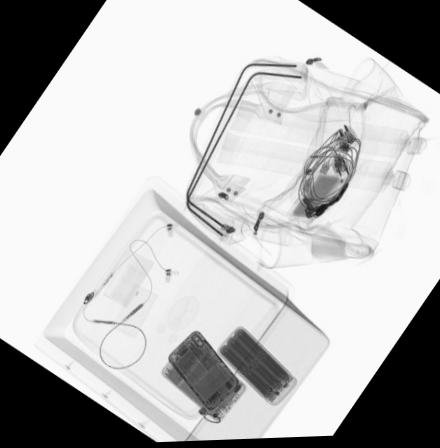Powerbank: (216, 325, 300, 410)
